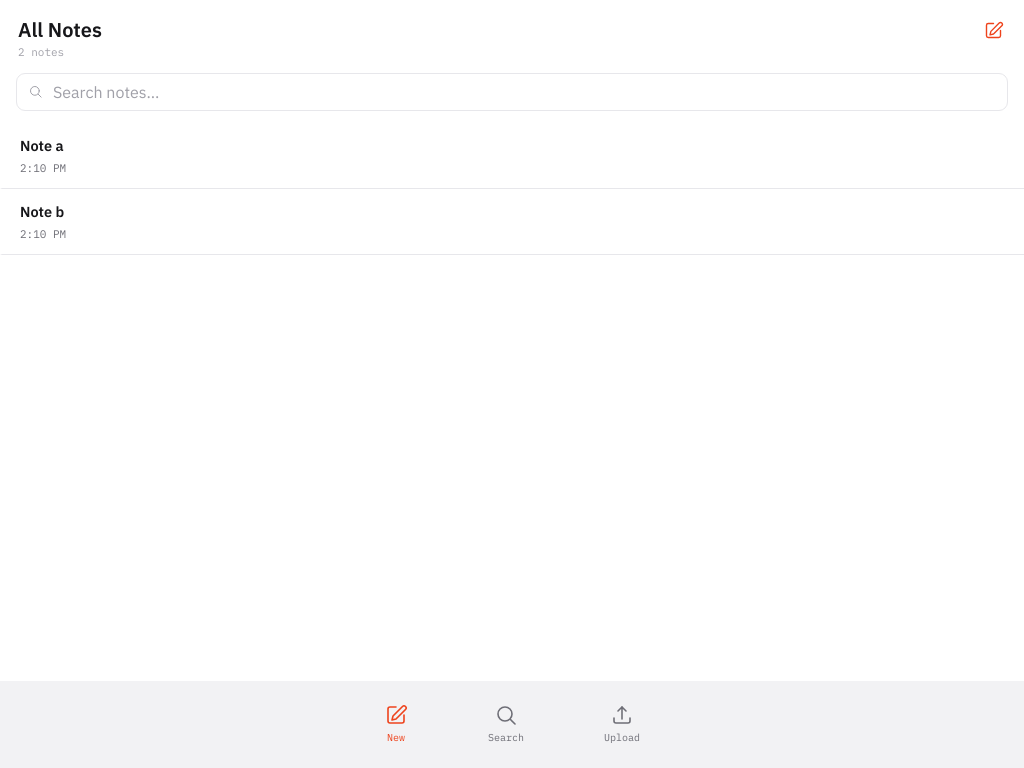
Test case: HomeView search — desktop (in-place in the list pane, no /search hop) › typing shows results IN PLACE (the list pane) and never navigates to /search
Type "gro" into the search field with class "home__search-input" at point(524, 92), box 51,80 -> 996,102
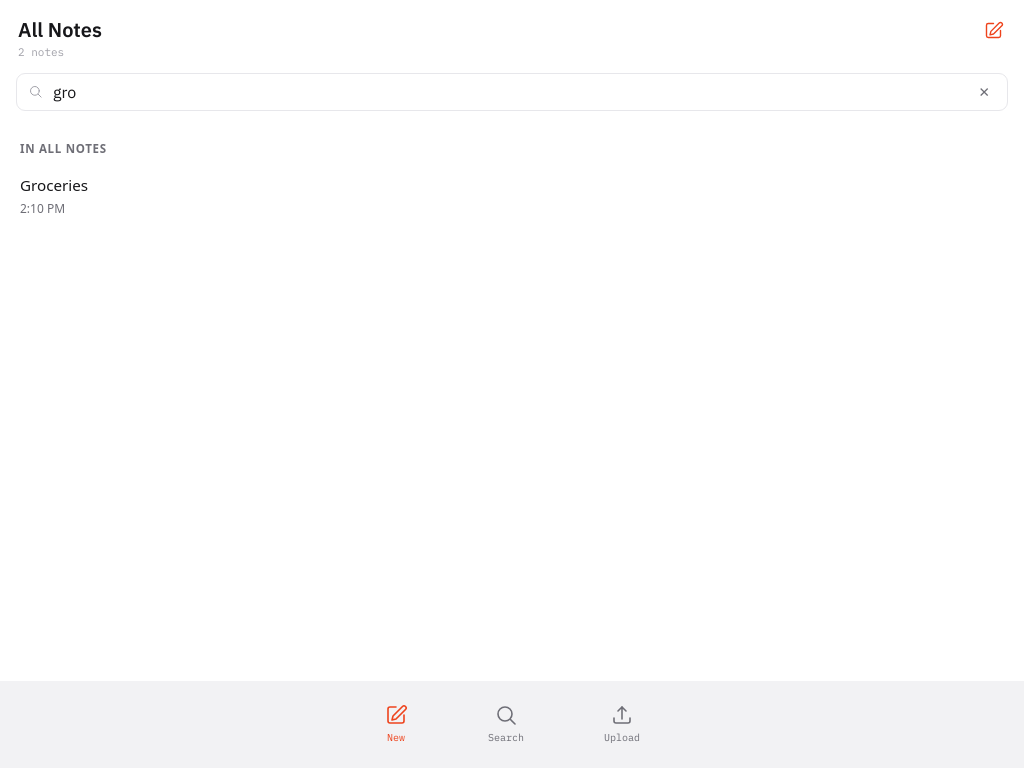
Expected: the element with class "search__body" is shown, 20,141 -> 107,217
Expected: the list with class "home__notes" is gone
